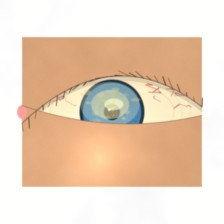corneal_ulcer: (79, 80, 141, 129)
